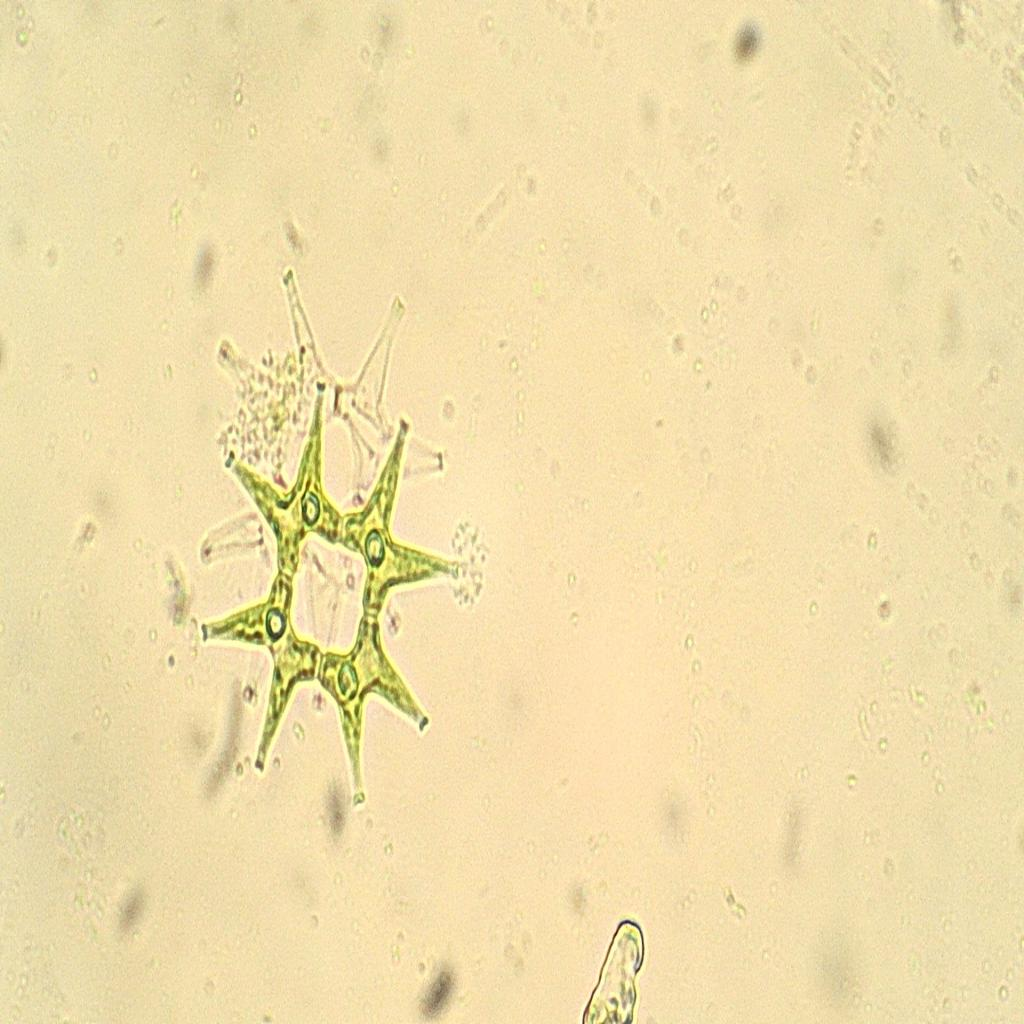Pediastrum_75O: (197, 373, 452, 823)
